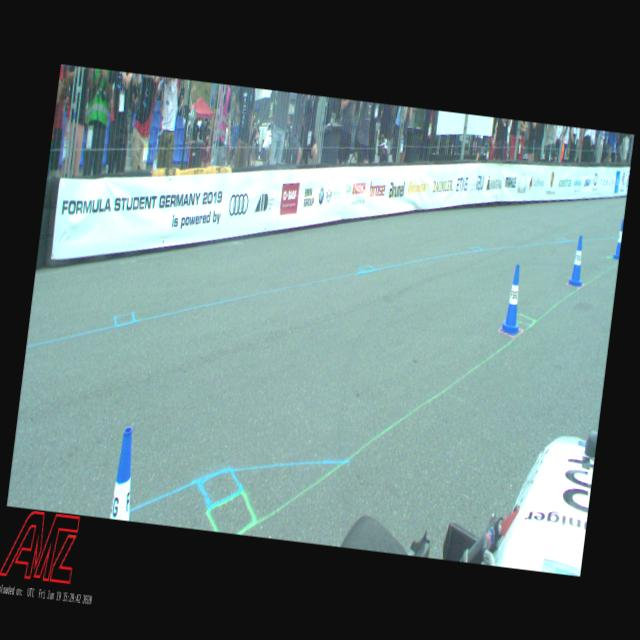blue_cone: (110, 426, 140, 520), (499, 264, 527, 336), (568, 235, 587, 286), (613, 219, 623, 257)
